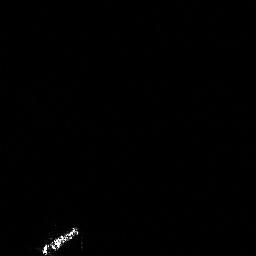ship: (36, 222, 82, 256)
